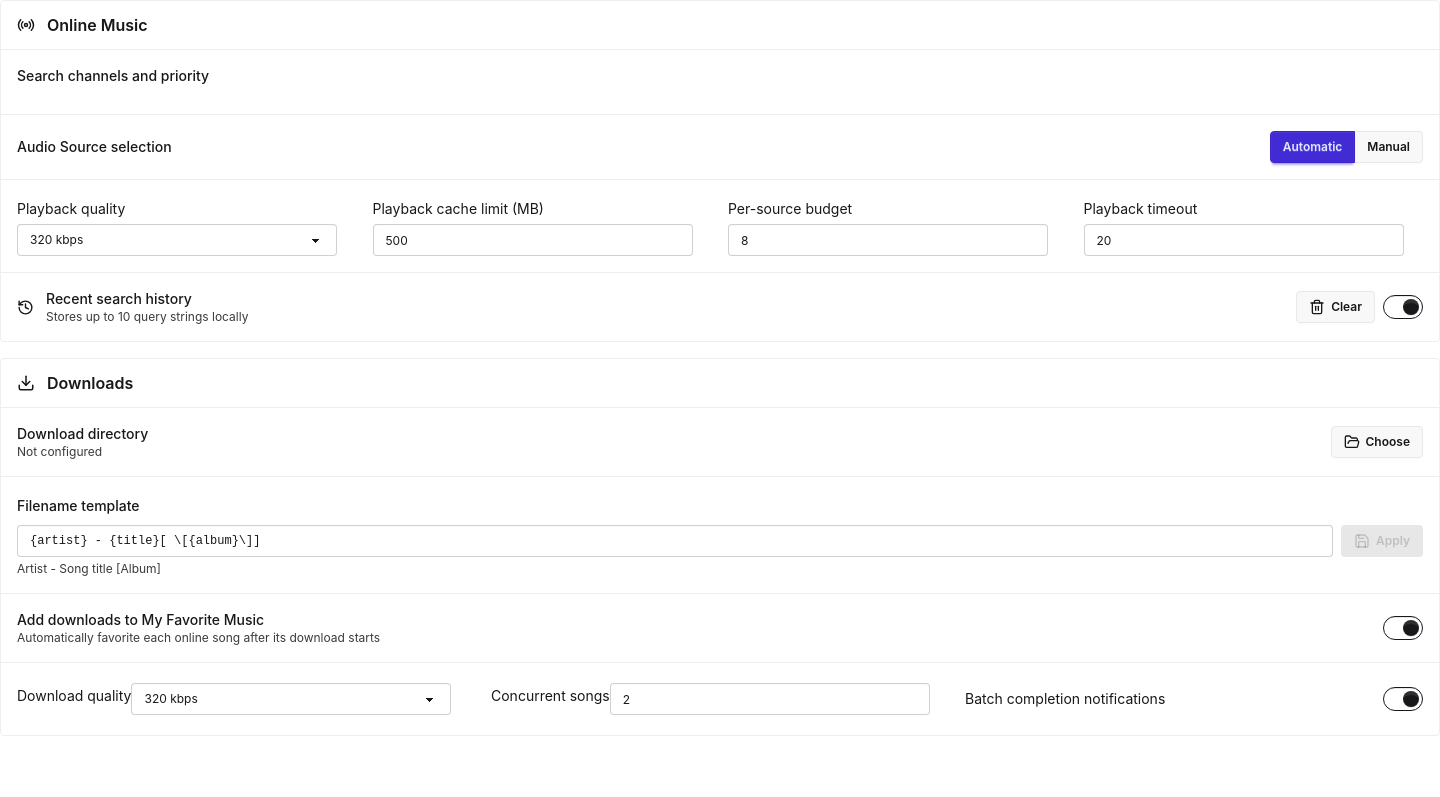
Test: OnlineMusicSettings › hides manual source priority while automatic selection is active
The width and height of the screenshot is (1440, 797).
Click the radio button named "Manual" at (1389, 147), box [1354,131,1423,163]
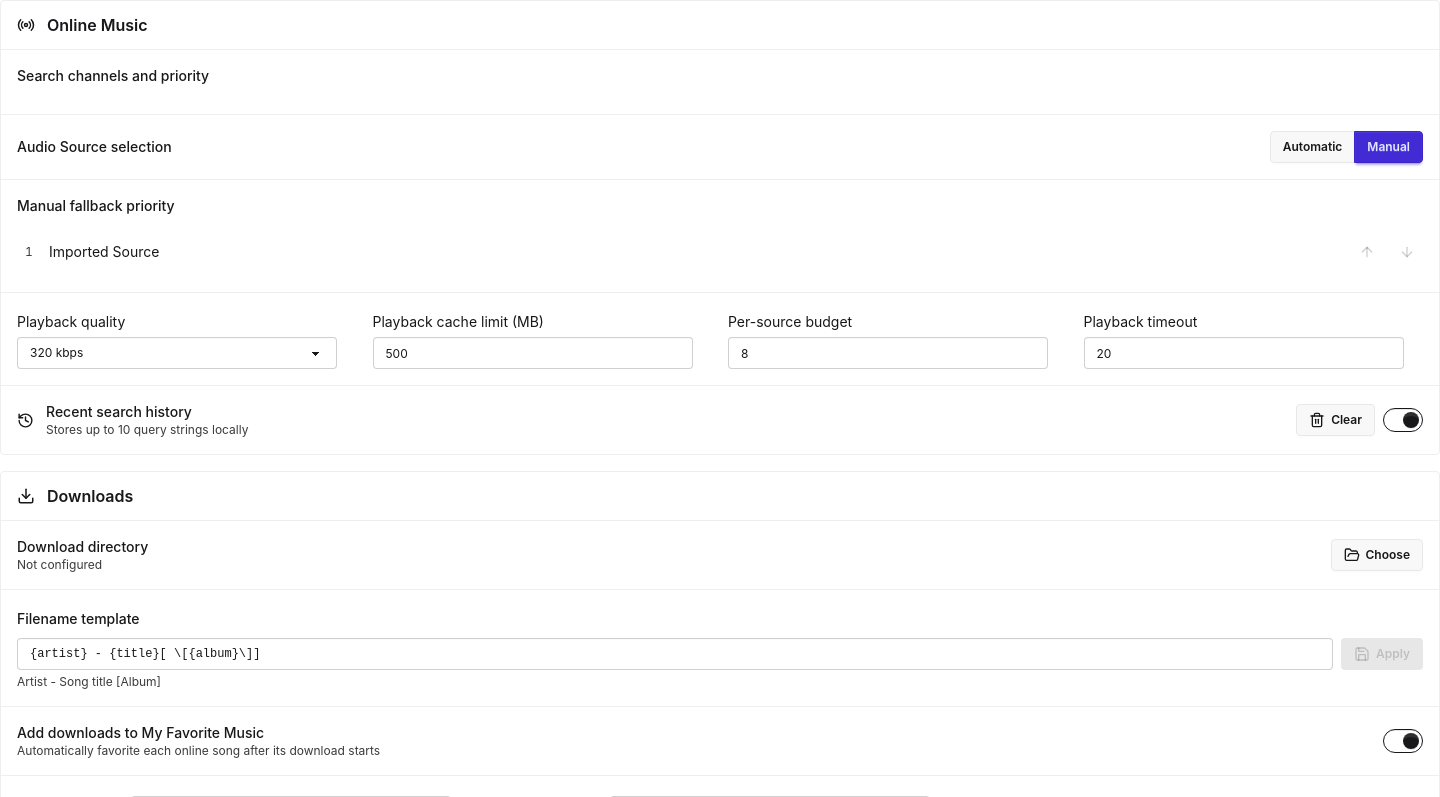
Expected: the list with test id "audio-source-priority" is shown, [17,228,1423,276]
